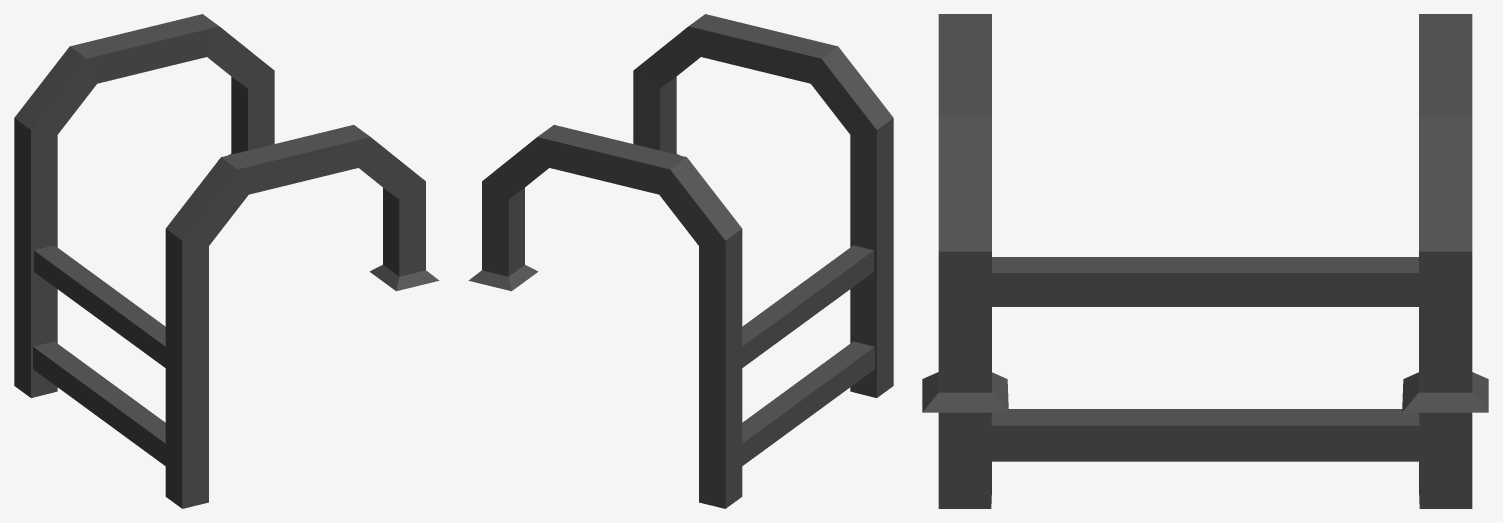
The model's file is cau1.fbx.
3 renders of one model, left to right at view 1: azimuth 30°, elevation 25°; view 2: azimuth 150°, elevation 25°; view 3: azimuth 270°, elevation 25°, orthographic. The views are drawn at different scales.
Visible parts, largest first — view 1: cau1; view 2: cau1; view 3: cau1.
Boxes of the visible parts, bbox=[...] form: cau1: bbox=[14, 14, 439, 508]; cau1: bbox=[468, 14, 893, 508]; cau1: bbox=[922, 14, 1488, 508].
Bounding box in the file's own units: 155 × 192 × 190.
